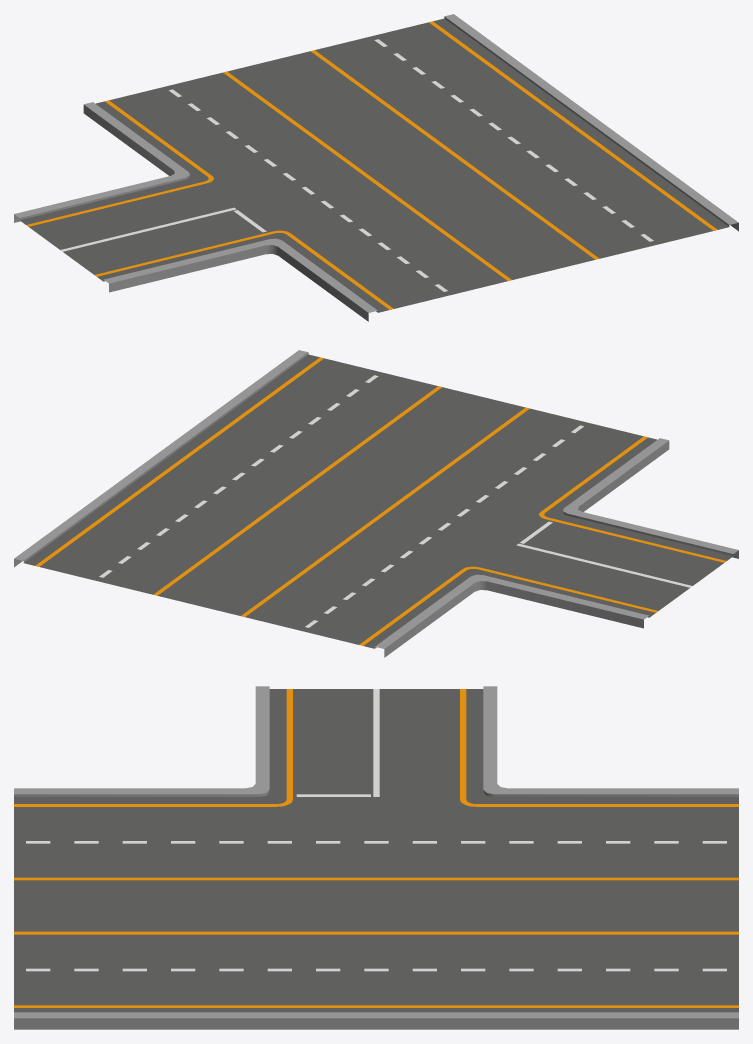
File: Road_B_2L_1_4.glb
3 views of the same model, one above another, from view 1: azimuth 30°, elevation 25°; view 2: azimuth 150°, elevation 25°; view 3: azimuth 270°, elevation 25° (orthographic). The views are drawn at different scales.
Parts seen in each view (by area): view 1: Road_B_2L_1_4; view 2: Road_B_2L_1_4; view 3: Road_B_2L_1_4.
Boxes of the visible parts, bbox=[...] form: Road_B_2L_1_4: bbox=[14, 14, 738, 321]; Road_B_2L_1_4: bbox=[14, 350, 738, 657]; Road_B_2L_1_4: bbox=[14, 686, 738, 1029].
Bounding box in the file's own units: 26 × 0.4148 × 24.
Materials: 1 (1 with a texture image).
